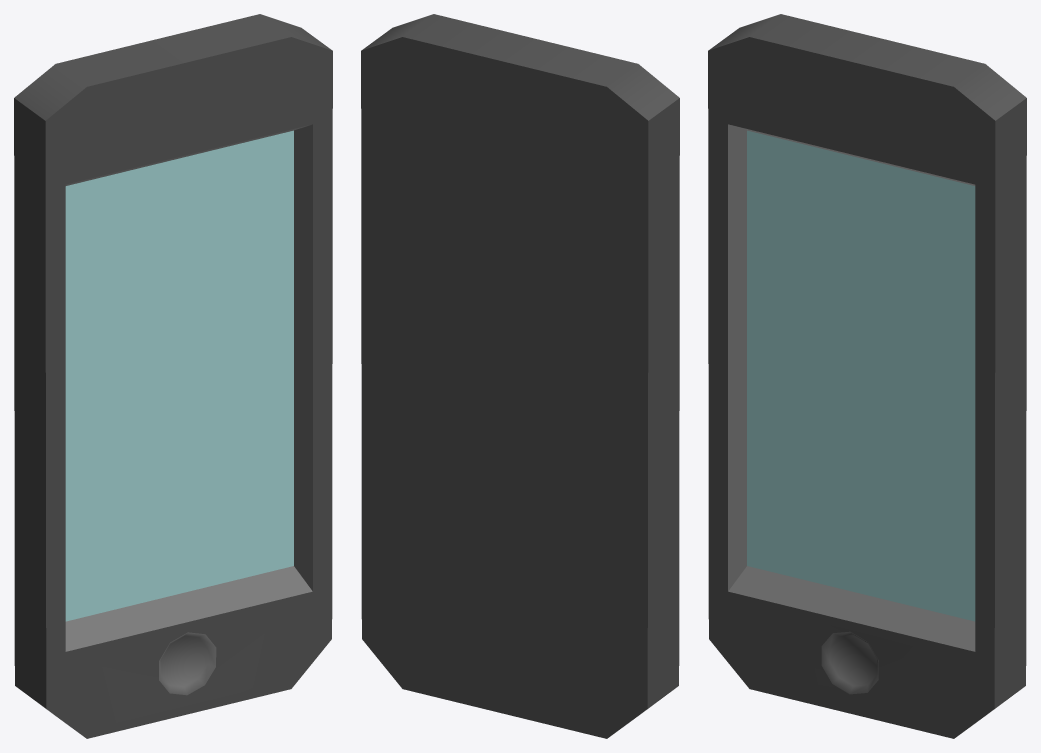
Rendered from smartphone_fbx.fbx.
The picture shows the model from 3 angles, left to right: view 1: azimuth 30°, elevation 25°; view 2: azimuth 150°, elevation 25°; view 3: azimuth 330°, elevation 25°; orthographic projection.
Parts seen in each view (by area): view 1: pCube2; view 2: pCube2; view 3: pCube2.
Part boxes in pixels (bbox=[...]): pCube2: bbox=[14, 14, 332, 738]; pCube2: bbox=[361, 14, 679, 738]; pCube2: bbox=[708, 14, 1026, 738].
Bounding box in the file's own units: 9.1 × 19.74 × 1.72.
